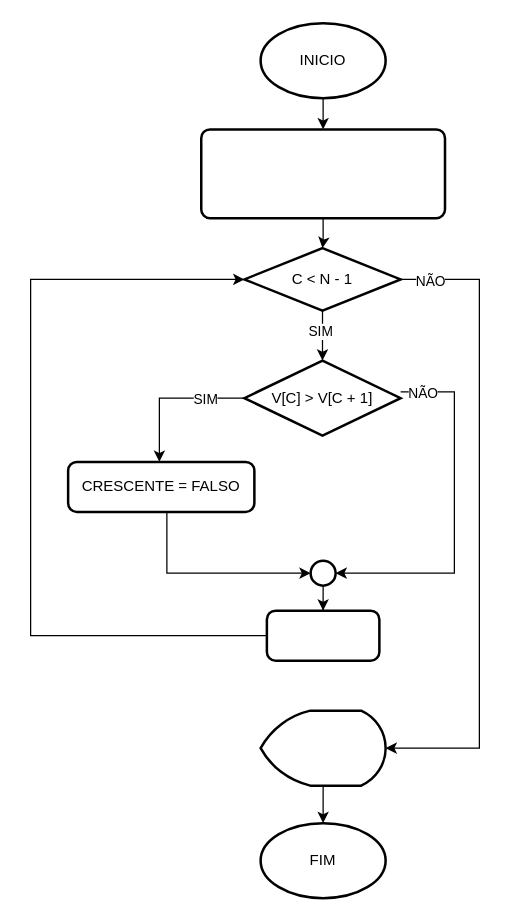
Image size: 511x920. Some labels were removed from this diagram. Each missing label, with the centre of its shape:
C++: the point at 322,635
CRESCENTE: the point at 322,747
V = {5, 4, 3, 2, 1} N = 5 C = 0 CRESCENTE = VERDADEIRO: the point at 322,173
